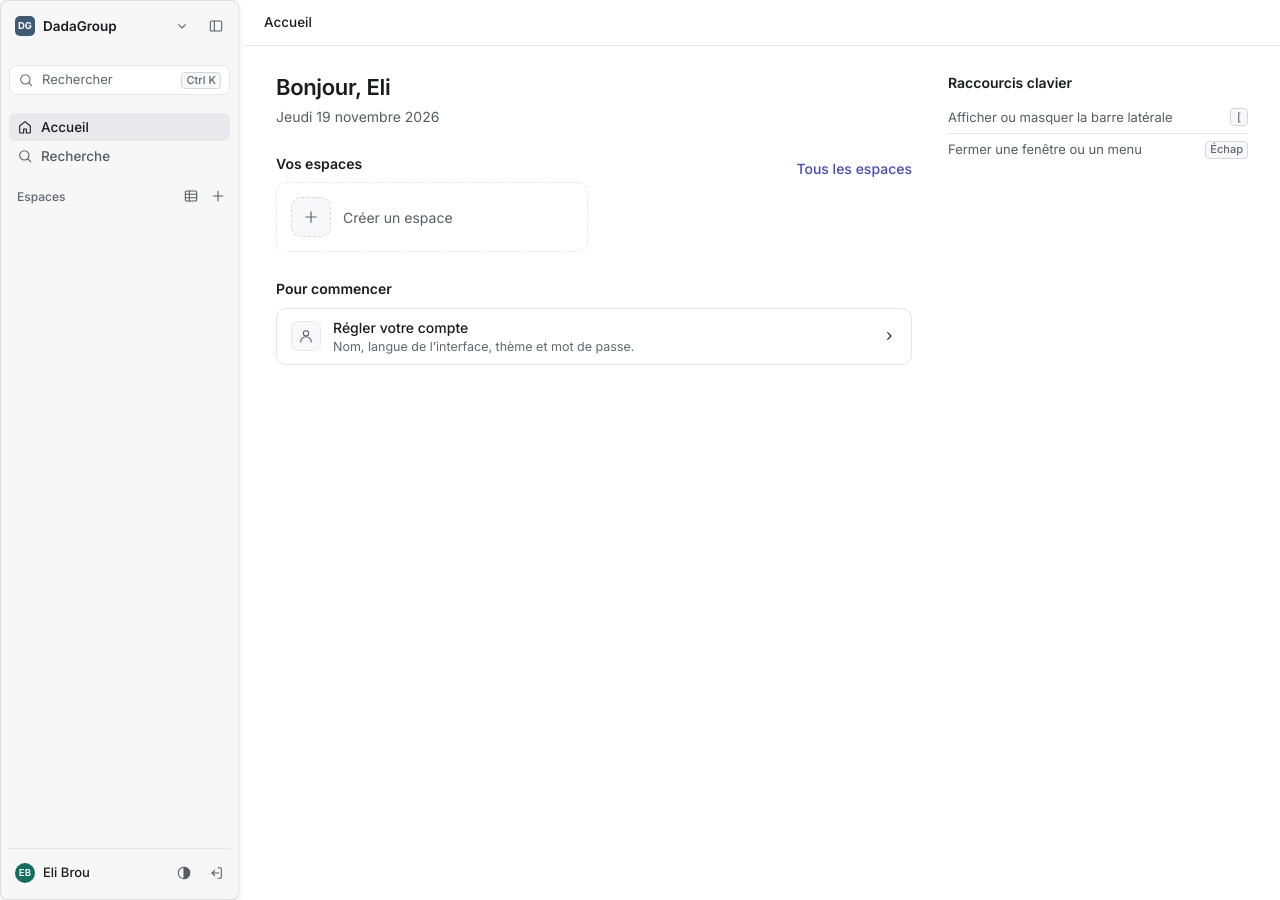
spaces › creates a space from the sidebar and opens it
Click the button named "Créer un espace".
click(215, 196)  # box [204,185,226,207]
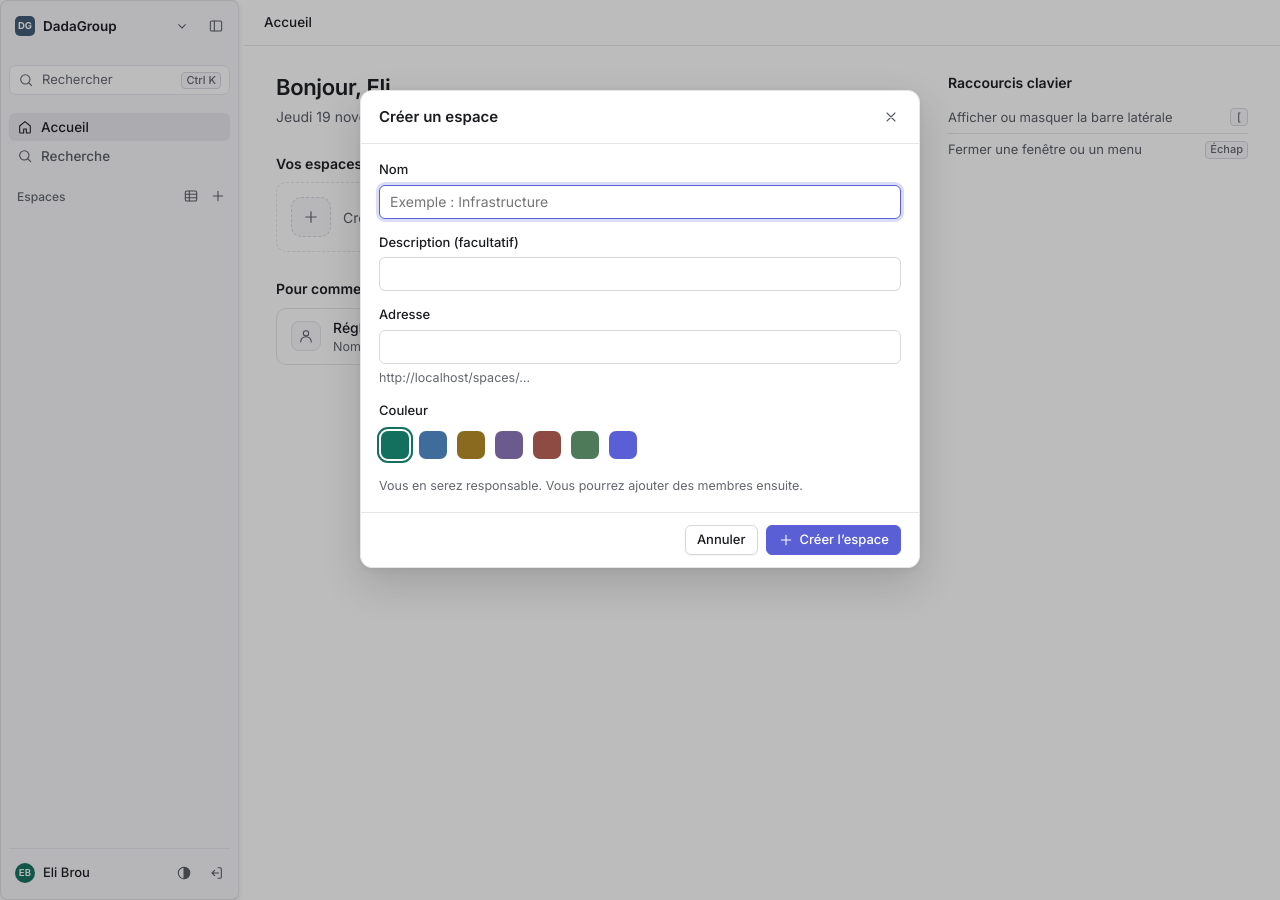
Type "Applications métier" into the field labelled "Nom".
click(640, 202); type("Applications métier")  # box [379,184,901,218]
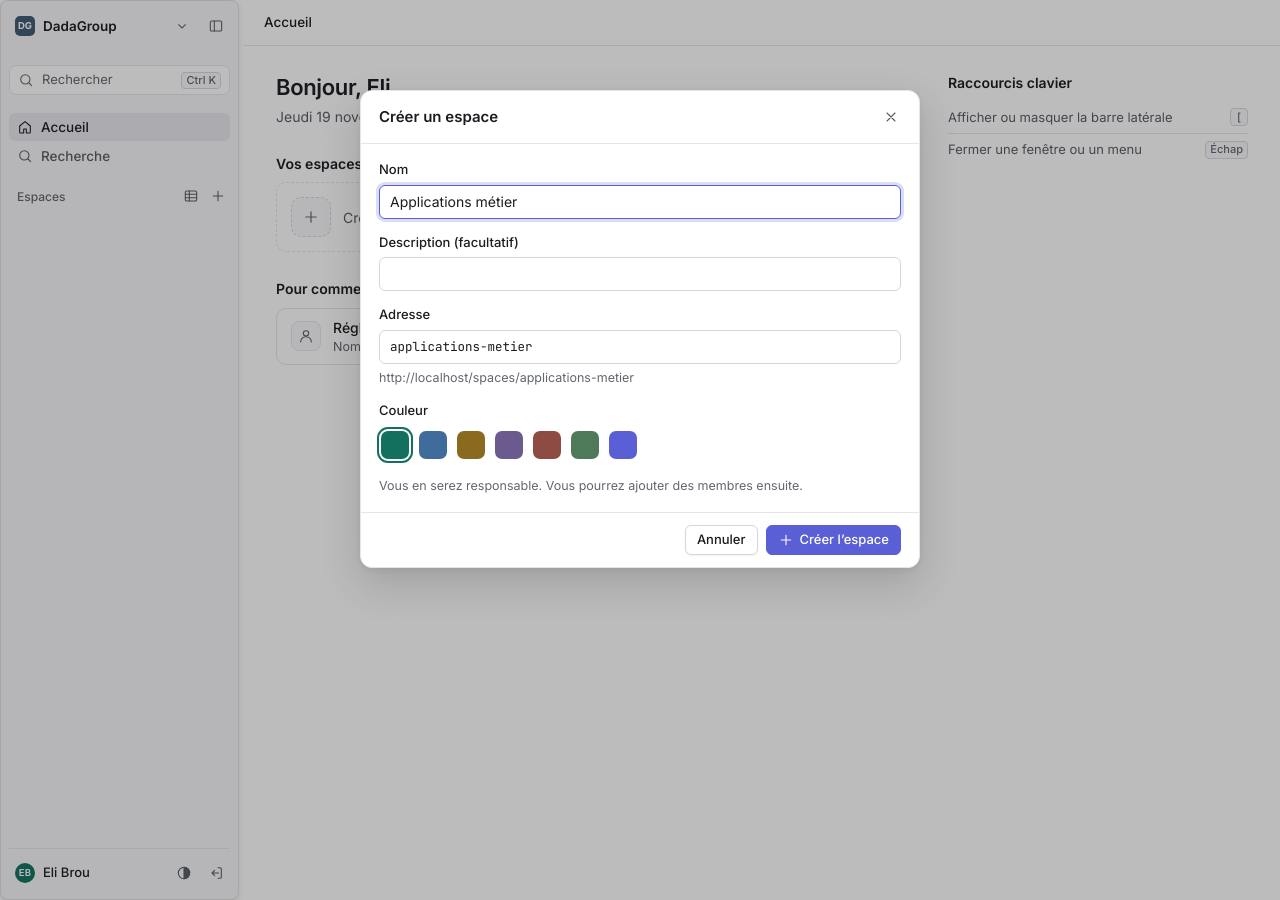
Now the field labelled "Adresse" holds "applications-metier", box [379,330,901,364]
Click the 2nd radio button named "Bleu acier".
click(426, 438)  # box [419,431,434,446]
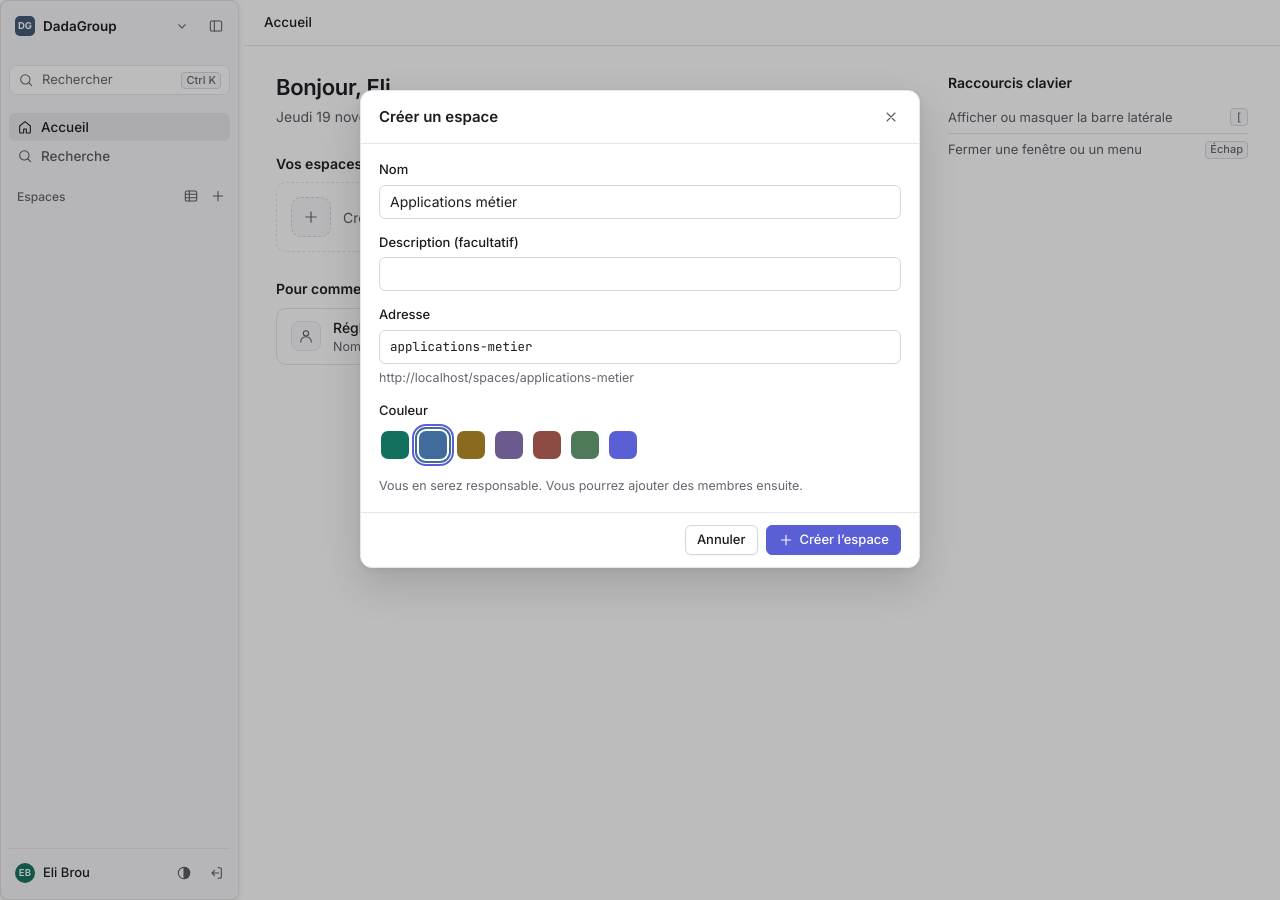
Click the button "Créer l’espace".
click(833, 540)  # box [766,524,901,554]
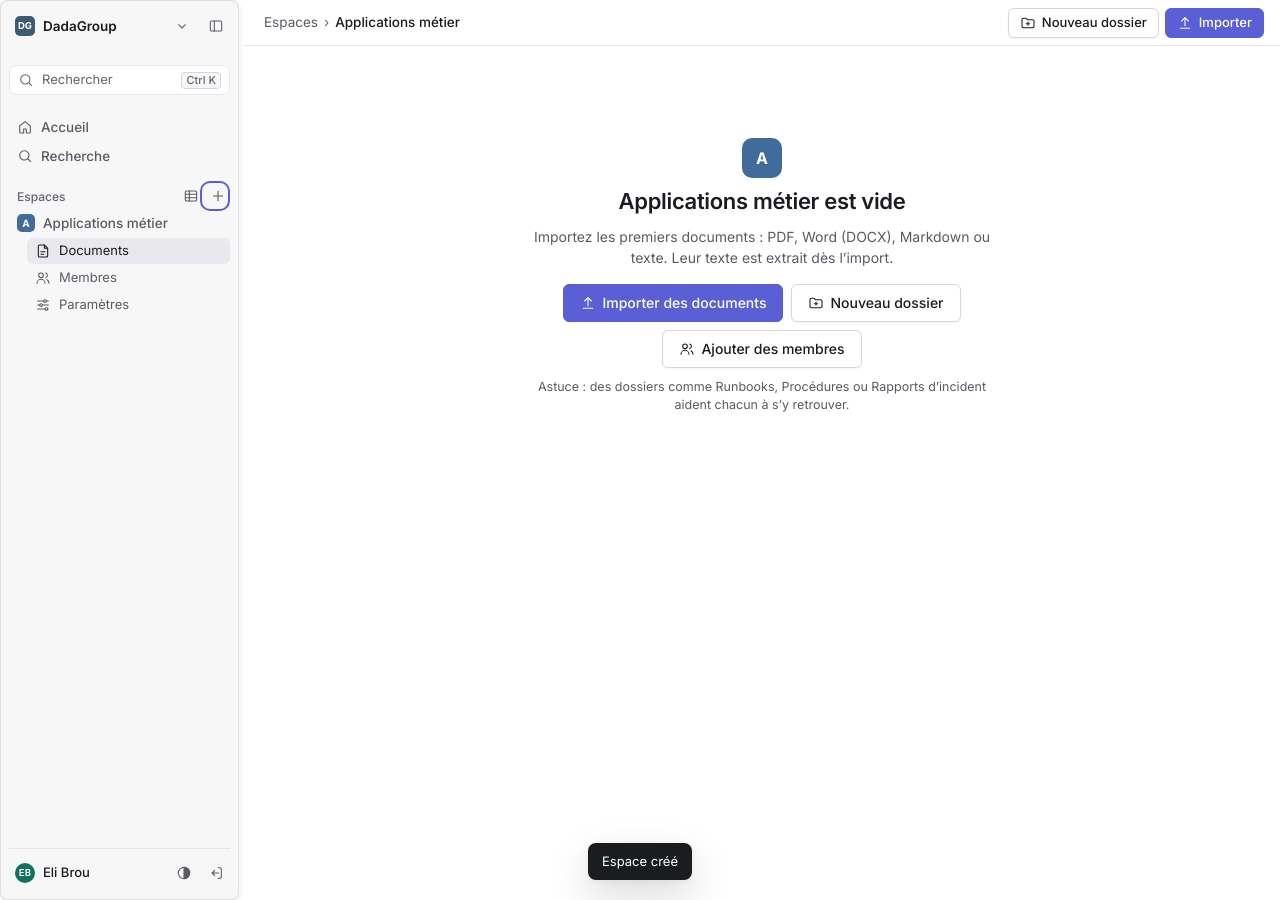
Now the heading "Applications métier est vide" is shown, box [619,188,906,216]
Now the link "Paramètres" is shown, box [35,296,129,313]
